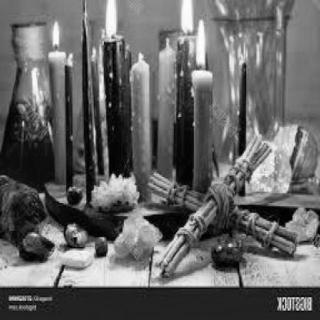Fire: (194, 13, 212, 74), (100, 0, 124, 38), (179, 0, 200, 34), (48, 16, 68, 49), (136, 45, 146, 67), (64, 50, 76, 66)
